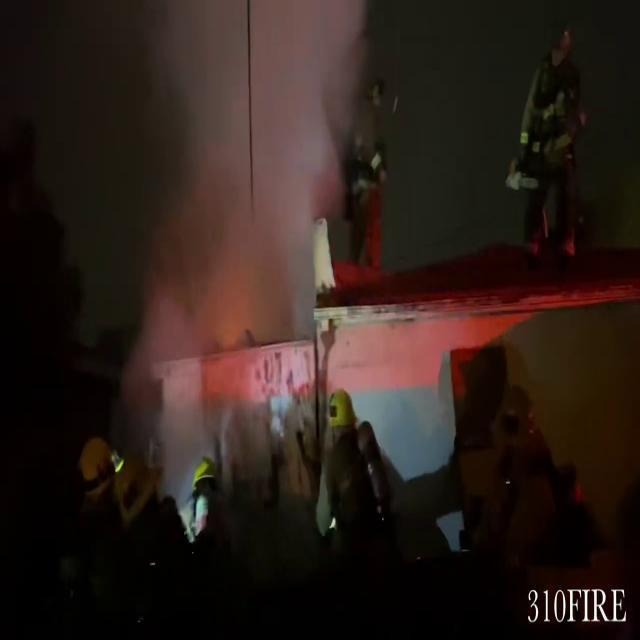Smoke: (130, 0, 378, 346)
